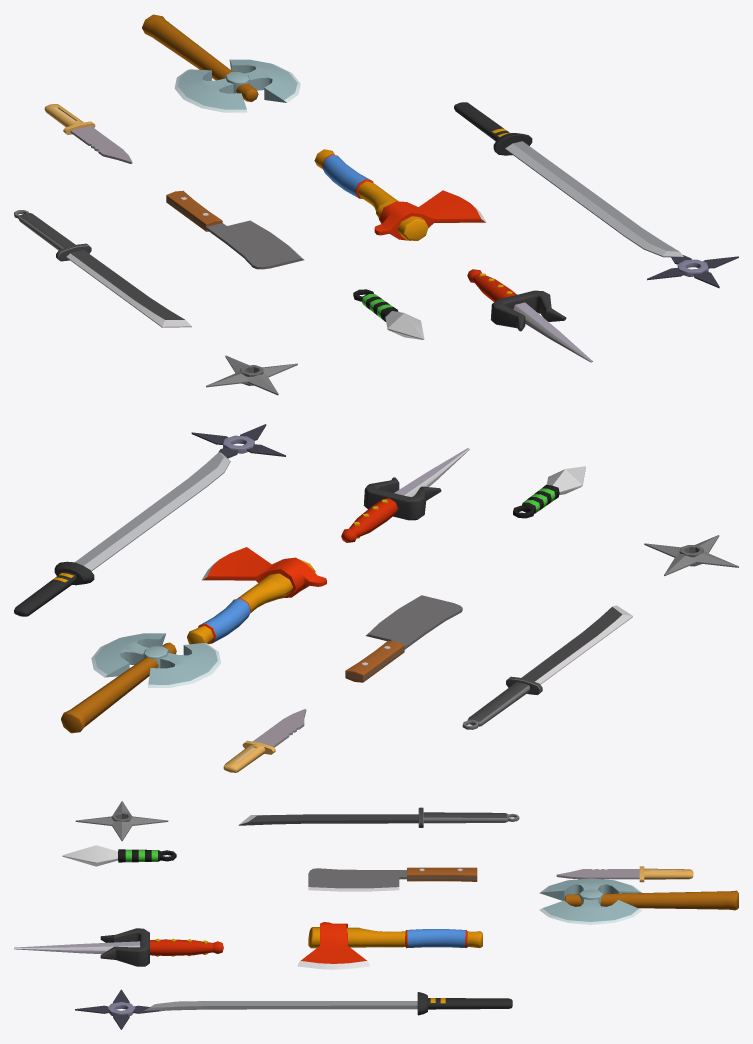
File: Weapons.fbx
3 renders of one model, top to bottom at view 1: azimuth 30°, elevation 25°; view 2: azimuth 150°, elevation 25°; view 3: azimuth 270°, elevation 25°, orthographic. The views are drawn at different scales.
Parts seen in each view (by area): view 1: Axe_weapon, Butcher_knife2, Knife4, Butcher_knife1, Knife2, Knife3, Knife1, Spear, Disc2, Disc1; view 2: Axe_weapon, Butcher_knife2, Knife4, Butcher_knife1, Knife2, Knife3, Knife1, Spear, Disc2, Disc1; view 3: Axe_weapon, Butcher_knife2, Knife4, Knife3, Butcher_knife1, Knife2, Spear, Knife1, Disc2, Disc1.
Boxes of the visible parts, box(x1,y1,x2,y2) form: Axe_weapon: box(142, 14, 300, 112); Butcher_knife2: box(314, 149, 486, 240); Knife4: box(454, 102, 683, 257); Butcher_knife1: box(166, 190, 304, 269); Knife2: box(14, 210, 191, 327); Knife3: box(467, 269, 592, 362); Knife1: box(44, 104, 132, 163); Spear: box(353, 289, 424, 339); Disc2: box(206, 355, 297, 395); Disc1: box(647, 255, 738, 288); Axe_weapon: box(61, 633, 220, 733); Butcher_knife2: box(187, 547, 326, 644); Knife4: box(14, 452, 230, 616); Butcher_knife1: box(345, 595, 462, 682); Knife2: box(462, 605, 632, 729); Knife3: box(341, 448, 469, 542); Knife1: box(223, 709, 306, 772); Spear: box(513, 466, 585, 518); Disc2: box(644, 535, 738, 575); Disc1: box(191, 424, 285, 458); Axe_weapon: box(539, 878, 738, 924); Butcher_knife2: box(297, 922, 482, 969); Knife4: box(144, 992, 512, 1015); Knife3: box(14, 928, 223, 966); Butcher_knife1: box(308, 867, 477, 891); Knife2: box(238, 807, 519, 827); Spear: box(62, 845, 176, 866); Knife1: box(556, 866, 693, 882); Disc2: box(75, 801, 168, 841); Disc1: box(75, 989, 164, 1029).
Size of the model in its own units: 207 by 22.79 by 279.
